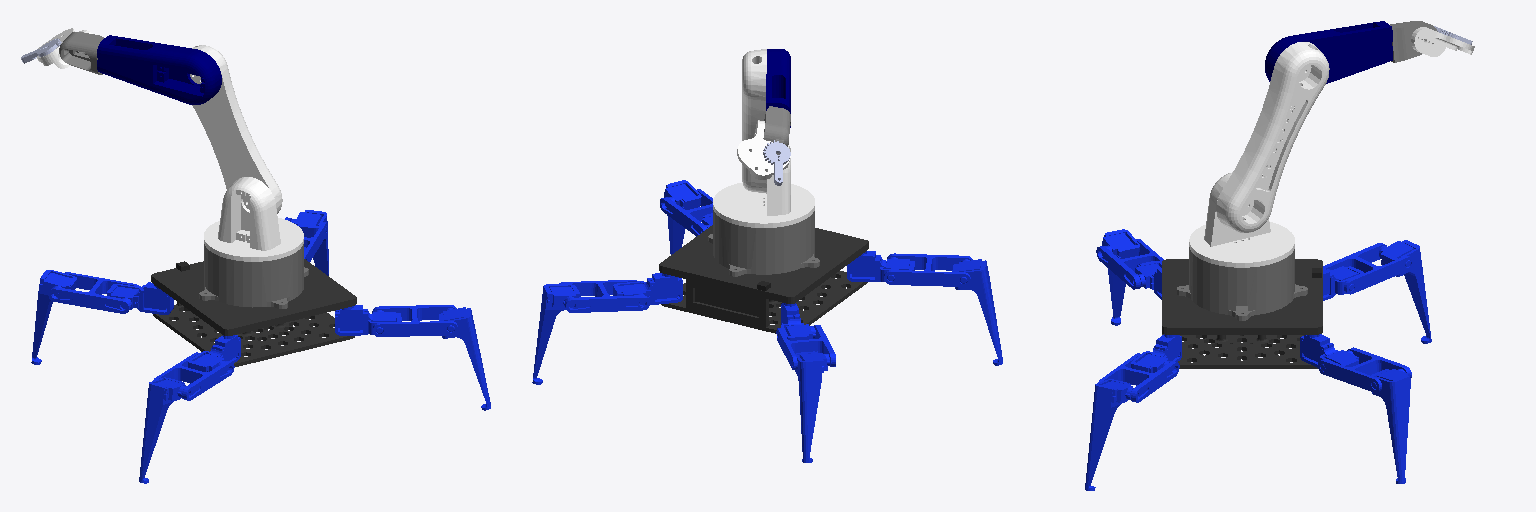
--- What the picture shows (computed from the rendered views, not written in the file) ---
Views: 3 orthographic renders of the robot side by side, from view 1: azimuth 30°, elevation 25°; view 2: azimuth 150°, elevation 25°; view 3: azimuth 270°, elevation 25°.
Model rob_description with 21 links and 20 joints (18 revolute, 2 fixed), rooted at base_link, posed joints at zero except 1 at the middle of their limits (gripper_joint = -0.75).
Links seen in each view (by area): view 1: base_link, elbow_link, waist_link, robot_arm_base_link, shoulder_link, leg_2_2_link, leg_4_2_link, leg_3_3_link, leg_3_2_link, leg_4_3_link, leg_2_3_link, wrist_link (+4 smaller); view 2: base_link, robot_arm_base_link, waist_link, shoulder_link, leg_3_2_link, leg_1_2_link, leg_2_3_link, leg_3_3_link, leg_1_3_link, elbow_link, leg_2_2_link, wrist_pitch_link (+7 smaller); view 3: base_link, shoulder_link, robot_arm_base_link, waist_link, elbow_link, leg_1_3_link, leg_4_3_link, leg_2_2_link, leg_1_2_link, leg_4_2_link, leg_2_3_link, leg_3_2_link (+6 smaller).
Link boxes in pixels (bbox=[...]): base_link: bbox=[151, 259, 356, 366]; elbow_link: bbox=[97, 35, 221, 104]; waist_link: bbox=[204, 177, 303, 261]; robot_arm_base_link: bbox=[199, 244, 308, 308]; shoulder_link: bbox=[190, 45, 282, 213]; leg_2_2_link: bbox=[48, 272, 140, 313]; leg_4_2_link: bbox=[372, 305, 457, 336]; leg_3_3_link: bbox=[139, 377, 185, 483]; leg_3_2_link: bbox=[153, 352, 234, 400]; leg_4_3_link: bbox=[439, 307, 490, 410]; leg_2_3_link: bbox=[31, 270, 76, 364]; wrist_link: bbox=[59, 32, 103, 74]; base_link: bbox=[659, 225, 868, 333]; robot_arm_base_link: bbox=[708, 210, 819, 276]; waist_link: bbox=[713, 145, 814, 227]; shoulder_link: bbox=[742, 49, 766, 193]; leg_3_2_link: bbox=[884, 253, 972, 286]; leg_1_2_link: bbox=[559, 280, 650, 312]; leg_2_3_link: bbox=[792, 351, 829, 462]; leg_3_3_link: bbox=[952, 259, 1002, 365]; leg_1_3_link: bbox=[532, 284, 580, 384]; elbow_link: bbox=[766, 49, 790, 127]; leg_2_2_link: bbox=[776, 323, 835, 369]; wrist_pitch_link: bbox=[737, 120, 790, 179]; base_link: bbox=[1162, 259, 1322, 368]; shoulder_link: bbox=[1216, 42, 1329, 232]; robot_arm_base_link: bbox=[1177, 247, 1307, 320]; waist_link: bbox=[1189, 172, 1294, 267]; elbow_link: bbox=[1265, 21, 1392, 83]; leg_1_3_link: bbox=[1371, 369, 1410, 483]; leg_4_3_link: bbox=[1085, 379, 1133, 490]; leg_2_2_link: bbox=[1323, 243, 1413, 294]; leg_1_2_link: bbox=[1318, 347, 1411, 392]; leg_4_2_link: bbox=[1098, 353, 1179, 402]; leg_2_3_link: bbox=[1379, 240, 1431, 343]; leg_3_2_link: bbox=[1096, 239, 1163, 289].
Bounding box of the posed robot: 0.3889 × 0.3682 × 0.3681 m (x, y, z).
20 mesh visuals loaded from 20 distinct referenced files (20 binary STL).

robot.urdf — rob_description:
<?xml version="1.0" encoding="utf-8"?>


<robot xmlns:xacro="http://www.ros.org/wiki/xacro" name="rob_description">


  <!-- <link name="world">
  </link>


  <joint name="base_joint" type="prismatic">
    <parent link="world"/>
    <child link="base_link"/>
    <origin xyz="0 0 0.05" rpy="0 0 0.17"/>
    <axis xyz="1 1 1"/> 
    <limit lower="-1.3" upper="1.3" effort="0.17658" velocity="3" />

  </joint> -->


  <link name="base_link">
    <inertial>
      <origin xyz="0.000142161656331803 -0.0704790911512731 0.0232428386644289" rpy="0 0 0" />
      <mass value="0.179020474590181" />
      <inertia ixx="0.000400524612011229" ixy="-2.89131436666906E-08" ixz="-6.1393246297894E-10" iyy="0.000360830113775654" iyz="-1.1124680212854E-05" izz="0.000748531634798209" />
    </inertial>
    <visual>
      <origin xyz="0 0 0" rpy="0 0 0" />
      <geometry>
        <mesh filename="package://rob_description/meshes/base_link.STL" />
      </geometry>
      <material name="">
        <color rgba="0.250980392156863 0.250980392156863 0.250980392156863 1" />
      </material>
    </visual>
    <collision>
      <origin xyz="0 0 0" rpy="0 0 0" />
      <geometry>
        <mesh filename="package://rob_description/meshes/base_link.STL" />
      </geometry>
    </collision>
  </link>

  <gazebo reference="base_link">
    <mu1>0.5</mu1>
    <mu2>0.5</mu2>
  </gazebo>

  <gazebo reference="leg_1_3_link">
    <mu1>10.5</mu1>
    <mu2>10.5</mu2>
  </gazebo>
  <gazebo reference="leg_2_3_link">
    <mu1>10.5</mu1>
    <mu2>10.5</mu2>
  </gazebo>
  <gazebo reference="leg_3_3_link">
    <mu1>10.5</mu1>
    <mu2>10.5</mu2>
  </gazebo>
  <gazebo reference="leg_4_3_link">
    <mu1>10.5</mu1>
    <mu2>10.5</mu2>
  </gazebo>


  <link name="leg_1_1_link">
    <inertial>
      <origin xyz="-0.0106490352621465 -0.00788349186649798 -0.0217316457944361" rpy="0 0 0" />
      <mass value="0.0143673057318463" />
      <inertia ixx="2.00046296981926E-06" ixy="-1.44785102804453E-06" ixz="1.0199547543337E-07" iyy="2.90267728958665E-06" iyz="5.70211060457614E-08" izz="3.69909430740157E-06" />
    </inertial>
    <visual>
      <origin xyz="0 0 0" rpy="0 0 0" />
      <geometry>
        <mesh filename="package://rob_description/meshes/leg_1_1_link.STL" />
      </geometry>
      <material name="">
        <color rgba="0.12156862745098 0.254901960784314 1 1" />
      </material>
    </visual>
    <collision>
      <origin xyz="0 0 0" rpy="0 0 0" />
      <geometry>
        <mesh filename="package://rob_description/meshes/leg_1_1_link.STL" />
      </geometry>
    </collision>
  </link>
  <joint name="leg_1_1_joint" type="revolute">
    <origin xyz="0.067436 -0.007588 0.03925" rpy="0 0 3.1416" />
    <parent link="base_link" />
    <child link="leg_1_1_link" />
    <axis xyz="0 0 1" />
    <limit lower="-1.3" upper="1.3" effort="5" velocity="3" />
  </joint>
  <link name="leg_1_2_link">
    <inertial>
      <origin xyz="-0.0240030080062505 0.00154691156426078 -0.0168300270535889" rpy="0 0 0" />
      <mass value="0.0194186744544705" />
      <inertia ixx="4.37362559849436E-06" ixy="3.15015061261735E-07" ixz="-3.65341749437026E-08" iyy="9.16498617164118E-06" iyz="2.3249787544917E-22" izz="5.43377889107762E-06" />
    </inertial>
    <visual>
      <origin xyz="0 0 0" rpy="0 0 0" />
      <geometry>
        <mesh filename="package://rob_description/meshes/leg_1_2_link.STL" />
      </geometry>
      <material name="">
        <color rgba="0.12156862745098 0.254901960784314 1 1" />
      </material>
    </visual>
    <collision>
      <origin xyz="0 0 0" rpy="0 0 0" />
      <geometry>
        <mesh filename="package://rob_description/meshes/leg_1_2_link.STL" />
      </geometry>
    </collision>
  </link>
  <joint name="leg_1_2_joint" type="revolute">
    <origin xyz="-0.0094487 -0.037471 -0.02475" rpy="1.5708 0 0.75695" />
    <parent link="leg_1_1_link" />
    <child link="leg_1_2_link" />
    <axis xyz="0 0 1" />
    <limit lower="-1.57" upper="1.57" effort="5" velocity="3" />
  </joint>
  <link name="leg_1_3_link">
    <inertial>
      <origin xyz="-0.0116199972401624 -0.0159593362453021 -0.023840410791102" rpy="0 0 0" />
      <mass value="0.0241947516819825" />
      <inertia ixx="1.00525150794293E-05" ixy="-2.63446904038669E-06" ixz="-1.44799444513624E-07" iyy="3.22719003519367E-06" iyz="-4.80347692515564E-07" izz="1.14324733611022E-05" />
    </inertial>
    <visual>
      <origin xyz="0 0 0" rpy="0 0 0" />
      <geometry>
        <mesh filename="package://rob_description/meshes/leg_1_3_link.STL" />
      </geometry>
      <material name="">
        <color rgba="0.12156862745098 0.254901960784314 1 1" />
      </material>
    </visual>
    <collision>
      <origin xyz="0 0 0" rpy="0 0 0" />
      <geometry>
        <mesh filename="package://rob_description/meshes/leg_1_3_link.STL" />
      </geometry>
    </collision>
  </link>
  <joint name="leg_1_3_joint" type="revolute">
    <origin xyz="-0.070632 0.0048883 0" rpy="0 0 0" />
    <parent link="leg_1_2_link" />
    <child link="leg_1_3_link" />
    <axis xyz="0 0 1" />
    <limit lower="-3.09" upper="0.5" effort="5" velocity="3" />
  </joint>
  <link name="leg_2_1_link">
    <inertial>
      <origin xyz="0.00765382023590318 -0.0110595344702691 -0.0217316457944361" rpy="0 0 0" />
      <mass value="0.0143673057318463" />
      <inertia ixx="2.99910580377544E-06" ixy="1.4142047075038E-06" ixz="-5.35542822138962E-08" iyy="1.90403445563047E-06" iyz="1.03857702651828E-07" izz="3.69909430740157E-06" />
    </inertial>
    <visual>
      <origin xyz="0 0 0" rpy="0 0 0" />
      <geometry>
        <mesh filename="package://rob_description/meshes/leg_2_1_link.STL" />
      </geometry>
      <material name="">
        <color rgba="0.12156862745098 0.254901960784314 1 1" />
      </material>
    </visual>
    <collision>
      <origin xyz="0 0 0" rpy="0 0 0" />
      <geometry>
        <mesh filename="package://rob_description/meshes/leg_2_1_link.STL" />
      </geometry>
    </collision>
  </link>
  <joint name="leg_2_1_joint" type="revolute">
    <origin xyz="-0.067132 -0.0078501 0.03925" rpy="0 0 3.1416" />
    <parent link="base_link" />
    <child link="leg_2_1_link" />
    <axis xyz="0 0 1" />
    <limit lower="-1.3" upper="1.3" effort="5" velocity="3" />
  </joint>
  <link name="leg_2_2_link">
    <inertial>
      <origin xyz="-0.0240407161564033 0.000837306848763444 -0.0168300270535892" rpy="0 0 0" />
      <mass value="0.0194186744544706" />
      <inertia ixx="4.35825480780332E-06" ixy="1.70797093131495E-07" ixz="-3.65341749437066E-08" iyy="9.18035696233226E-06" iyz="7.6771153781775E-22" izz="5.43377889107763E-06" />
    </inertial>
    <visual>
      <origin xyz="0 0 0" rpy="0 0 0" />
      <geometry>
        <mesh filename="package://rob_description/meshes/leg_2_2_link.STL" />
      </geometry>
      <material name="">
        <color rgba="0.12156862745098 0.254901960784314 1 1" />
      </material>
    </visual>
    <collision>
      <origin xyz="0 0 0" rpy="0 0 0" />
      <geometry>
        <mesh filename="package://rob_description/meshes/leg_2_2_link.STL" />
      </geometry>
    </collision>
  </link>
  <joint name="leg_2_2_joint" type="revolute">
    <origin xyz="0.037396 -0.011005 -0.02475" rpy="1.5708 0 2.2941" />
    <parent link="leg_2_1_link" />
    <child link="leg_2_2_link" />
    <axis xyz="0 0 1" />
    <limit lower="-1.57" upper="1.57" effort="5" velocity="3" />
  </joint>
  <link name="leg_2_3_link">
    <inertial>
      <origin xyz="-0.0120694937507684 -0.015533695318398 -0.0238404132064595" rpy="0 0 0" />
      <mass value="0.0241947564491642" />
      <inertia ixx="9.84592383759881E-06" ixy="-2.88232802391957E-06" ixz="-1.62673942353806E-07" iyy="3.43378314409524E-06" iyz="-4.74594077197786E-07" izz="1.14324745456412E-05" />
    </inertial>
    <visual>
      <origin xyz="0 0 0" rpy="0 0 0" />
      <geometry>
        <mesh filename="package://rob_description/meshes/leg_2_3_link.STL" />
      </geometry>
      <material name="">
        <color rgba="0.12156862745098 0.254901960784314 1 1" />
      </material>
    </visual>
    <collision>
      <origin xyz="0 0 0" rpy="0 0 0" />
      <geometry>
        <mesh filename="package://rob_description/meshes/leg_2_3_link.STL" />
      </geometry>
    </collision>
  </link>
  <joint name="leg_2_3_joint" type="revolute">
    <origin xyz="-0.070949 0.0026748 0" rpy="0 0 0" />
    <parent link="leg_2_2_link" />
    <child link="leg_2_3_link" />
    <axis xyz="0 0 1" />
    <limit lower="-3.09" upper="0.5" effort="5" velocity="3" />
  </joint>
  <link name="leg_3_1_link">
    <inertial>
      <origin xyz="0.0126970354971494 0.00443616461447369 -0.0217316457944361" rpy="0 0 0" />
      <mass value="0.0143673057318463" />
      <inertia ixx="1.25625446259264E-06" ixy="-9.3326883858219E-07" ixz="-1.14361605927127E-07" iyy="3.64688579681327E-06" iyz="-2.39980547822068E-08" izz="3.69909430740157E-06" />
    </inertial>
    <visual>
      <origin xyz="0 0 0" rpy="0 0 0" />
      <geometry>
        <mesh filename="package://rob_description/meshes/leg_3_1_link.STL" />
      </geometry>
      <material name="">
        <color rgba="0.12156862745098 0.254901960784314 1 1" />
      </material>
    </visual>
    <collision>
      <origin xyz="0 0 0" rpy="0 0 0" />
      <geometry>
        <mesh filename="package://rob_description/meshes/leg_3_1_link.STL" />
      </geometry>
    </collision>
  </link>
  <joint name="leg_3_1_joint" type="revolute">
    <origin xyz="-0.06718 -0.14209 0.03925" rpy="0 0 3.1416" />
    <parent link="base_link" />
    <child link="leg_3_1_link" />
    <axis xyz="0 0 1" />
    <limit lower="-1.3" upper="1.3" effort="5" velocity="3" />
  </joint>
  <link name="leg_3_2_link">
    <inertial>
      <origin xyz="-0.02405625766153 -5.43509583599191E-05 -0.0168300270513747" rpy="0 0 0" />
      <mass value="0.0194186744544706" />
      <inertia ixx="4.35191218053022E-06" ixy="-1.10943931526685E-08" ixz="-3.65341749017511E-08" iyy="9.18669958960249E-06" iyz="4.29736871833547E-19" izz="5.43377889108045E-06" />
    </inertial>
    <visual>
      <origin xyz="0 0 0" rpy="0 0 0" />
      <geometry>
        <mesh filename="package://rob_description/meshes/leg_3_2_link.STL" />
      </geometry>
      <material name="">
        <color rgba="0.12156862745098 0.254901960784314 1 1" />
      </material>
    </visual>
    <collision>
      <origin xyz="0 0 0" rpy="0 0 0" />
      <geometry>
        <mesh filename="package://rob_description/meshes/leg_3_2_link.STL" />
      </geometry>
    </collision>
  </link>
  <joint name="leg_3_2_joint" type="revolute">
    <origin xyz="0.020556 0.033121 -0.02475" rpy="1.5708 0 -2.6876" />
    <parent link="leg_3_1_link" />
    <child link="leg_3_2_link" />
    <axis xyz="0 0 1" />
    <limit lower="-1.57" upper="1.57" effort="5" velocity="3" />
  </joint>
  <link name="leg_3_3_link">
    <inertial>
      <origin xyz="-0.0124936356093147 -0.0151946394857798 -0.0238404136825089" rpy="0 0 0" />
      <mass value="0.0241947491201489" />
      <inertia ixx="9.68198159825631E-06" ixy="-3.05484752975316E-06" ixz="-1.7571148648404E-07" iyy="3.59771587259095E-06" iyz="-4.69924040082928E-07" izz="1.14324644656944E-05" />
    </inertial>
    <visual>
      <origin xyz="0 0 0" rpy="0 0 0" />
      <geometry>
        <mesh filename="package://rob_description/meshes/leg_3_3_link.STL" />
      </geometry>
      <material name="">
        <color rgba="0.12156862745098 0.254901960784314 1 1" />
      </material>
    </visual>
    <collision>
      <origin xyz="0 0 0" rpy="0 0 0" />
      <geometry>
        <mesh filename="package://rob_description/meshes/leg_3_3_link.STL" />
      </geometry>
    </collision>
  </link>
  <joint name="leg_3_3_joint" type="revolute">
    <origin xyz="-0.070997 -0.00013741 0" rpy="0 0 0" />
    <parent link="leg_3_2_link" />
    <child link="leg_3_3_link" />
    <axis xyz="0 0 1" />
    <limit lower="-3.09" upper="0.5" effort="5" velocity="3" />
  </joint>
  <link name="leg_4_1_link">
    <inertial>
      <origin xyz="-0.0108987888292679 0.00788103222665758 -0.0217316457944361" rpy="0 0 0" />
      <mass value="0.0143673057318463" />
      <inertia ixx="1.98994613803271E-06" ixy="1.44453229781212E-06" ixz="8.50719290596024E-08" iyy="2.9131941213732E-06" iyz="-8.01077426322773E-08" izz="3.69909430740156E-06" />
    </inertial>
    <visual>
      <origin xyz="0 0 0" rpy="0 0 0" />
      <geometry>
        <mesh filename="package://rob_description/meshes/leg_4_1_link.STL" />
      </geometry>
      <material name="">
        <color rgba="0.12156862745098 0.254901960784314 1 1" />
      </material>
    </visual>
    <collision>
      <origin xyz="0 0 0" rpy="0 0 0" />
      <geometry>
        <mesh filename="package://rob_description/meshes/leg_4_1_link.STL" />
      </geometry>
    </collision>
  </link>
  <joint name="leg_4_1_joint" type="revolute">
    <origin xyz="0.06742 -0.14215 0.03925" rpy="0 0 3.1416" />
    <parent link="base_link" />
    <child link="leg_4_1_link" />
    <axis xyz="0 0 1" />
    <limit lower="-1.3" upper="1.3" effort="5" velocity="3" />
  </joint>
  <link name="leg_4_2_link">
    <inertial>
      <origin xyz="-0.024051068680761 0.000485899382056869 -0.0168300270535894" rpy="0 0 0" />
      <mass value="0.0194186744544706" />
      <inertia ixx="4.35403033809247E-06" ixy="9.91613384555115E-08" ixz="-3.65341749436961E-08" iyy="9.1845814320431E-06" iyz="-3.77195160131607E-22" izz="5.43377889107763E-06" />
    </inertial>
    <visual>
      <origin xyz="0 0 0" rpy="0 0 0" />
      <geometry>
        <mesh filename="package://rob_description/meshes/leg_4_2_link.STL" />
      </geometry>
      <material name="">
        <color rgba="0.12156862745098 0.254901960784314 1 1" />
      </material>
    </visual>
    <collision>
      <origin xyz="0 0 0" rpy="0 0 0" />
      <geometry>
        <mesh filename="package://rob_description/meshes/leg_4_2_link.STL" />
      </geometry>
    </collision>
  </link>
  <joint name="leg_4_2_joint" type="revolute">
    <origin xyz="-0.038927 -0.0020709 -0.02475" rpy="1.5708 0 -0.50817" />
    <parent link="leg_4_1_link" />
    <child link="leg_4_2_link" />
    <axis xyz="0 0 1" />
    <limit lower="-1.57" upper="1.57" effort="5" velocity="3" />
  </joint>
  <link name="leg_4_3_link">
    <inertial>
      <origin xyz="-0.0128468350172348 -0.0148972191681003 -0.0238404102670697" rpy="0 0 0" />
      <mass value="0.024194755406874" />
      <inertia ixx="9.53527419664644E-06" ixy="-3.1942507137305E-06" ixz="-1.86691989740315E-07" iyy="3.74443269642469E-06" iyz="-4.65668107771331E-07" izz="1.14324750578155E-05" />
    </inertial>
    <visual>
      <origin xyz="0 0 0" rpy="0 0 0" />
      <geometry>
        <mesh filename="package://rob_description/meshes/leg_4_3_link.STL" />
      </geometry>
      <material name="">
        <color rgba="0.12156862745098 0.254901960784314 1 1" />
      </material>
    </visual>
    <collision>
      <origin xyz="0 0 0" rpy="0 0 0" />
      <geometry>
        <mesh filename="package://rob_description/meshes/leg_4_3_link.STL" />
      </geometry>
    </collision>
  </link>
  <joint name="leg_4_3_joint" type="revolute">
    <origin xyz="-0.07098 0.0015744 0" rpy="0 0 0" />
    <parent link="leg_4_2_link" />
    <child link="leg_4_3_link" />
    <axis xyz="0 0 1" />
    <limit lower="-3.09" upper="0.5" effort="5" velocity="3" />
  </joint>

  <link name="robot_arm_base_link">
    <inertial>
      <origin xyz="-0.00060550087230387 -0.0746232517815496 0.0658482076492735" rpy="0 0 0" />
      <mass value="0.0938941939628841" />
      <inertia ixx="0.00011393791922916" ixy="1.97717536504341E-13" ixz="1.35515920698357E-06" iyy="0.000124247629168402" iyz="-1.90758299063095E-13" izz="0.000197548704096291" />
    </inertial>
    <visual>
      <origin xyz="0 0 0" rpy="0 0 0" />
      <geometry>
        <mesh filename="package://rob_description/meshes/robot_arm_base_link.STL" />
      </geometry>
      <material name="">
        <color rgba="0.501960784313725 0.501960784313725 0.501960784313725 1" />
      </material>
    </visual>
    <collision>
      <origin xyz="0 0 0" rpy="0 0 0" />
      <geometry>
        <mesh filename="package://rob_description/meshes/robot_arm_base_link.STL" />
      </geometry>
    </collision>
  </link>
  <joint name="robot_arm_base_joint" type="fixed">
    <origin xyz="0 0 0" rpy="0 0 0" />
    <parent link="base_link" />
    <child link="robot_arm_base_link" />
    <axis xyz="0 0 0" />
  </joint>
  <link name="waist_link">
    <inertial>
      <origin xyz="0.00611859874217046 0.00351738738985236 0.0144229347811668" rpy="0 0 0" />
      <mass value="0.0897213187915253" />
      <inertia ixx="7.47059613692468E-05" ixy="4.46564576455446E-06" ixz="-6.90784940398821E-06" iyy="6.9504003440658E-05" iyz="-3.97104407861625E-06" izz="7.06954475493945E-05" />
    </inertial>
    <visual>
      <origin xyz="0 0 0" rpy="0 0 0" />
      <geometry>
        <mesh filename="package://rob_description/meshes/waist_link.STL" />
      </geometry>
      <material name="">
        <color rgba="1 1 1 1" />
      </material>
    </visual>
    <collision>
      <origin xyz="0 0 0" rpy="0 0 0" />
      <geometry>
        <mesh filename="package://rob_description/meshes/waist_link.STL" />
      </geometry>
    </collision>
  </link>
  <joint name="waist_joint" type="revolute">
    <origin xyz="0.00028473 -0.074623 0.09845" rpy="0 0 3.1416" />
    <parent link="robot_arm_base_link" />
    <child link="waist_link" />
    <axis xyz="0 0 1" />
    <limit lower="-0.6" upper="2.7302" effort="5" velocity="3" />
  </joint>
  <link name="shoulder_link">
    <inertial>
      <origin xyz="-0.0310609091112614 0.0627288829136049 -0.0103077586659709" rpy="0 0 0" />
      <mass value="0.13797058412603" />
      <inertia ixx="0.000337671851308865" ixy="0.000151928622465238" ixz="-5.14980053501098E-12" iyy="0.000106061064850195" iyz="-2.38384183718482E-09" izz="0.000431654996422589" />
    </inertial>
    <visual>
      <origin xyz="0 0 0" rpy="0 0 0" />
      <geometry>
        <mesh filename="package://rob_description/meshes/shoulder_link.STL" />
      </geometry>
      <material name="">
        <color rgba="1 1 1 1" />
      </material>
    </visual>
    <collision>
      <origin xyz="0 0 0" rpy="0 0 0" />
      <geometry>
        <mesh filename="package://rob_description/meshes/shoulder_link.STL" />
      </geometry>
    </collision>
  </link>
  <joint name="shoulder_joint" type="revolute">
    <origin xyz="0.0021674 0.0012459 0.03855" rpy="1.5708 0 2.0925" />
    <parent link="waist_link" />
    <child link="shoulder_link" />
    <axis xyz="0 0 1" />
    <limit lower="-2.04" upper="1.1" effort="5" velocity="3" />
  </joint>
  <link name="elbow_link">
    <inertial>
      <origin xyz="-0.0317110681393049 0.000512819590960834 0.0105819481349713" rpy="0 0 0" />
      <mass value="0.0805412728707214" />
      <inertia ixx="2.13906677114355E-05" ixy="1.45993082529441E-06" ixz="8.18249461605616E-07" iyy="0.000104511975012836" iyz="-1.64217381590211E-08" izz="0.000117350303128806" />
    </inertial>
    <visual>
      <origin xyz="0 0 0" rpy="0 0 0" />
      <geometry>
        <mesh filename="package://rob_description/meshes/elbow_link.STL" />
      </geometry>
      <material name="">
        <color rgba="0 0 0.501960784313725 1" />
      </material>
    </visual>
    <collision>
      <origin xyz="0 0 0" rpy="0 0 0" />
      <geometry>
        <mesh filename="package://rob_description/meshes/elbow_link.STL" />
      </geometry>
    </collision>
  </link>
  <joint name="elbow_joint" type="revolute">
    <origin xyz="-0.062122 0.12546 0" rpy="0 0 0" />
    <parent link="shoulder_link" />
    <child link="elbow_link" />
    <axis xyz="0 0 1" />
    <limit lower="-1.8" upper="1.34" effort="5" velocity="3" />
  </joint>
  <link name="wrist_link">
    <inertial>
      <origin xyz="-0.00471777788275105 0.00155489407652704 0.0121966940287668" rpy="0 0 0" />
      <mass value="0.0204563646354008" />
      <inertia ixx="6.04214500606226E-06" ixy="-1.775155318629E-07" ixz="3.80836197673735E-07" iyy="5.12770780036699E-06" iyz="-8.37854840705123E-08" izz="2.96023192277235E-06" />
    </inertial>
    <visual>
      <origin xyz="0 0 0" rpy="0 0 0" />
      <geometry>
        <mesh filename="package://rob_description/meshes/wrist_link.STL" />
      </geometry>
      <material name="">
        <color rgba="0.556862745098039 0.556862745098039 0.556862745098039 1" />
      </material>
    </visual>
    <collision>
      <origin xyz="0 0 0" rpy="0 0 0" />
      <geometry>
        <mesh filename="package://rob_description/meshes/wrist_link.STL" />
      </geometry>
    </collision>
  </link>
  <joint name="wrist_joint" type="revolute">
    <origin xyz="-0.11081 -0.003455 0.01185" rpy="3.1234 -1.5708 -3.1342" />
    <parent link="elbow_link" />
    <child link="wrist_link" />
    <axis xyz="0 0 1" />
    <limit lower="0" upper="3.14" effort="5" velocity="3" />
  </joint>
  <link name="wrist_pitch_link">
    <inertial>
      <origin xyz="0.0234962838007828 -0.00839115023257386 -0.00860452842373835" rpy="0 0 0" />
      <mass value="0.0155761385595563" />
      <inertia ixx="2.81087134144932E-06" ixy="1.21214546283074E-06" ixz="4.74575353731491E-07" iyy="6.02127331140936E-06" iyz="-2.70433488341758E-07" izz="4.87873697904178E-06" />
    </inertial>
    <visual>
      <origin xyz="0 0 0" rpy="0 0 0" />
      <geometry>
        <mesh filename="package://rob_description/meshes/wrist_pitch_link.STL" />
      </geometry>
      <material name="">
        <color rgba="1 1 1 1" />
      </material>
    </visual>
    <collision>
      <origin xyz="0 0 0" rpy="0 0 0" />
      <geometry>
        <mesh filename="package://rob_description/meshes/wrist_pitch_link.STL" />
      </geometry>
    </collision>
  </link>
  <joint name="wrist_pitch_joint" type="revolute">
    <origin xyz="-0.022134 0.0049255 0.02215" rpy="1.5708 -1.5557 -1.76" />
    <parent link="wrist_link" />
    <child link="wrist_pitch_link" />
    <axis xyz="0 0 1" />
    <limit lower="-1.14" upper="2" effort="5" velocity="3" />
  </joint>
  <link name="gripper_link">
    <inertial>
      <origin xyz="-0.00632044577393159 -0.00360312105778196 -0.00225628206764211" rpy="0 0 0" />
      <mass value="0.0028244899707033" />
      <inertia ixx="2.18828793010801E-07" ixy="-1.74230137961414E-07" ixz="-1.06355092899113E-08" iyy="3.33606103113108E-07" iyz="-7.65787702379376E-09" izz="5.41413331326968E-07" />
    </inertial>
    <visual>
      <origin xyz="0 0 0" rpy="0 0 0" />
      <geometry>
        <mesh filename="package://rob_description/meshes/gripper_link.STL" />
      </geometry>
      <material name="">
        <color rgba="0.792156862745098 0.819607843137255 0.933333333333333 1" />
      </material>
    </visual>
    <collision>
      <origin xyz="0 0 0" rpy="0 0 0" />
      <geometry>
        <mesh filename="package://rob_description/meshes/gripper_link.STL" />
      </geometry>
    </collision>
  </link>
  <joint name="gripper_joint" type="revolute">
    <origin xyz="0.034204 -0.0015613 -0.02295" rpy="1.5708 1.2123 2.6053" />
    <parent link="wrist_pitch_link" />
    <child link="gripper_link" />
    <axis xyz="0 0 -1" />
    <limit lower="-1.1" upper="-0.4" effort="5" velocity="3" />
  </joint>



  <link name="camera_link">
    <visual>
      <origin xyz="-0.02 -0.002 0.023" rpy="0 0 0" />
      <geometry>
        <box size="0.01 0.01 0.005" />
        <!-- Define a small box for the camera body -->
      </geometry>
      <material name="">
        <color rgba="0.2 0.2 0.2 1" />
        <!-- Dark gray color for the camera body -->
      </material>
    </visual>
    <collision>
      <origin xyz="-0.02 -0.002 0.023" rpy="0 0 0" />
      <geometry>
        <box size="0.01 0.01 0.005" />
        <!-- Collision box matching the visual size -->
      </geometry>
    </collision>
  </link>


  <joint name="camera_joint" type="fixed">
    <parent link="base_link" />
    <child link="camera_link" />
    <origin xyz="-0.02 -0.002 0.023" rpy="0 0 0" />
  </joint>


</robot>
